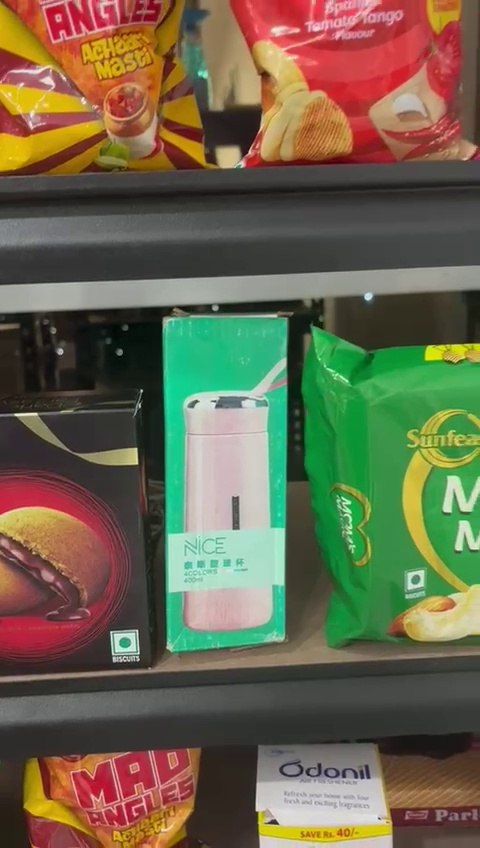Bottle: (161, 312, 288, 650)
